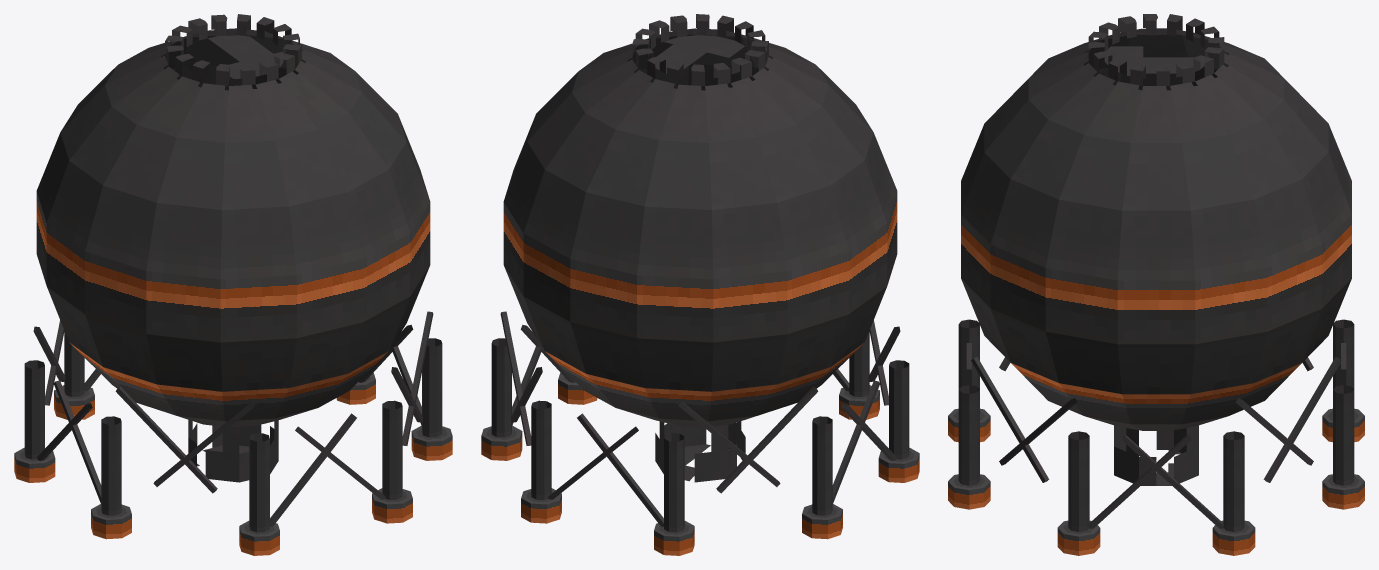
The model's file is spherical_tank.obj.
The picture shows the model from 3 angles, left to right: view 1: azimuth 30°, elevation 25°; view 2: azimuth 150°, elevation 25°; view 3: azimuth 270°, elevation 25°; orthographic projection.
Visible parts, largest first — view 1: Sphere_Sphere.002; view 2: Sphere_Sphere.002; view 3: Sphere_Sphere.002.
Part boxes in pixels (<box>): Sphere_Sphere.002: <box>14,14,452,555</box>; Sphere_Sphere.002: <box>481,14,919,555</box>; Sphere_Sphere.002: <box>948,14,1364,555</box>.
Bounding box in the file's own units: 4.89 × 5.5 × 4.89.
